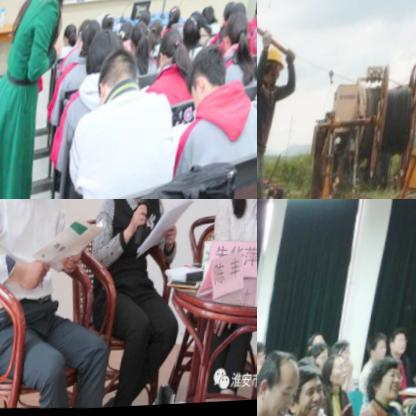head: (189, 46, 243, 114), (257, 346, 309, 416), (99, 43, 151, 102), (369, 358, 413, 411), (291, 362, 332, 416), (88, 24, 125, 69), (159, 26, 193, 69), (324, 353, 354, 392), (328, 335, 359, 372), (228, 12, 256, 51), (367, 334, 393, 371), (389, 326, 415, 362), (79, 19, 105, 54), (309, 343, 335, 377), (184, 13, 208, 45), (308, 331, 331, 359), (257, 341, 275, 375), (134, 23, 154, 48), (119, 18, 138, 42), (151, 20, 168, 44), (65, 22, 81, 47), (169, 5, 188, 26), (104, 12, 122, 34), (226, 2, 243, 25), (205, 3, 222, 24), (233, 4, 250, 24), (140, 6, 155, 28)
helmet: (260, 42, 298, 90)
